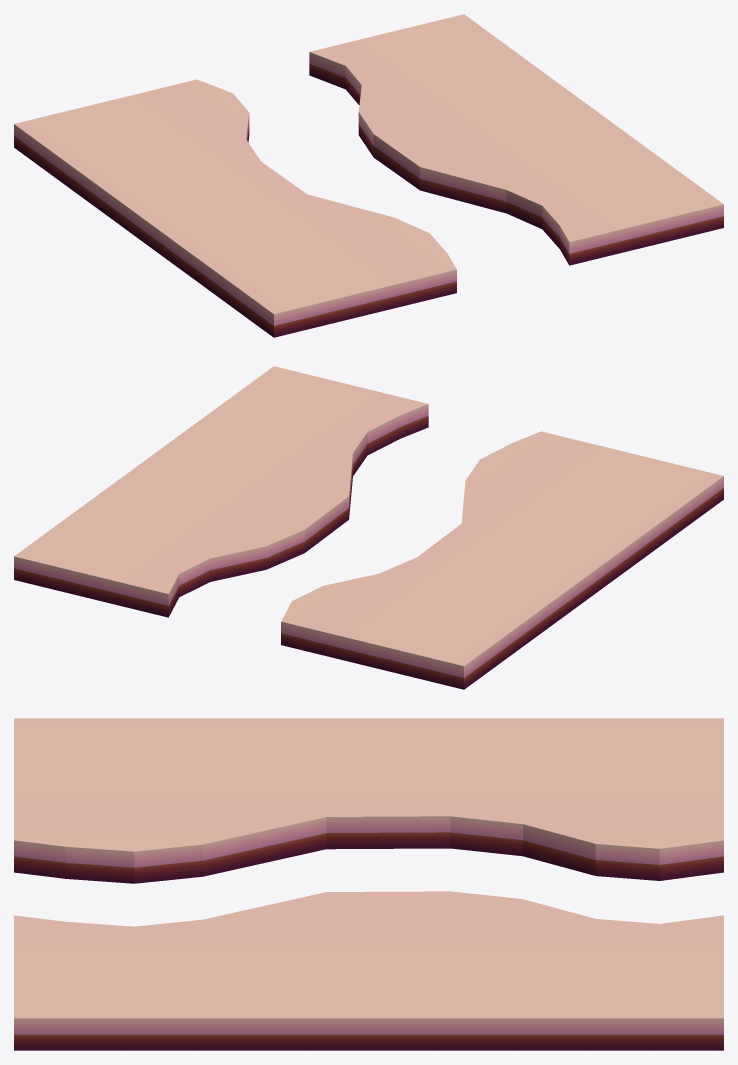
Rendered from W2_GROUND_3.fbx.
The picture shows the model from 3 angles, top to bottom: view 1: azimuth 30°, elevation 25°; view 2: azimuth 150°, elevation 25°; view 3: azimuth 270°, elevation 25°; orthographic projection. The views are drawn at different scales.
Visible parts, largest first — view 1: W2_GROUND_3; view 2: W2_GROUND_3; view 3: W2_GROUND_3.
Part boxes in pixels (box(x1,y1,x2,y2)): W2_GROUND_3: box(14, 14, 723, 337); W2_GROUND_3: box(14, 366, 723, 689); W2_GROUND_3: box(14, 718, 723, 1050).
Bounding box in the file's own units: 2000 × 100 × 2000.
